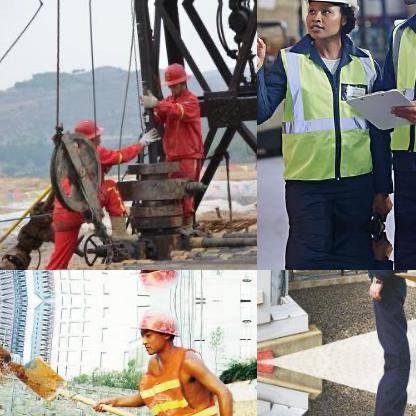Helmet: (292, 0, 359, 44), (132, 306, 180, 354), (131, 270, 181, 293), (160, 60, 190, 95), (70, 116, 100, 150)
